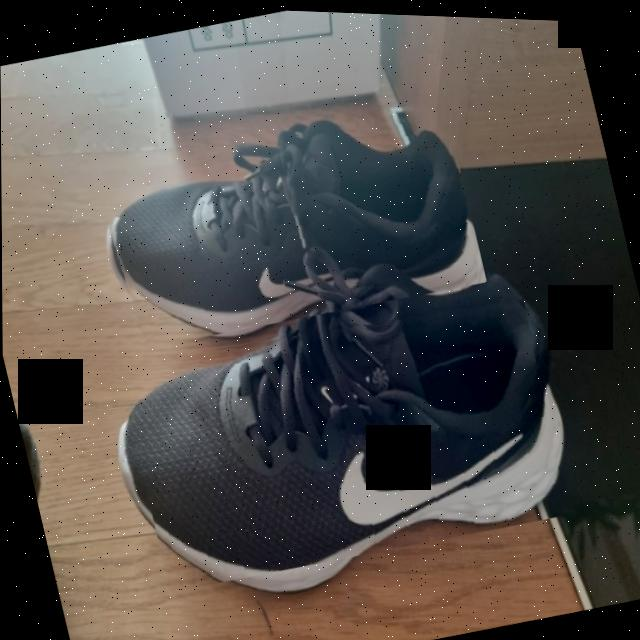shoe: (115, 270, 574, 603), (91, 91, 487, 359)
